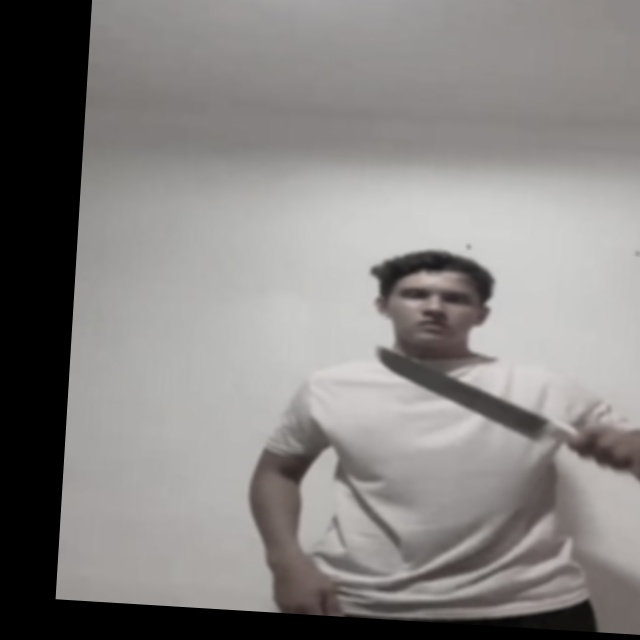Sharp-Object: (369, 346, 545, 434)
